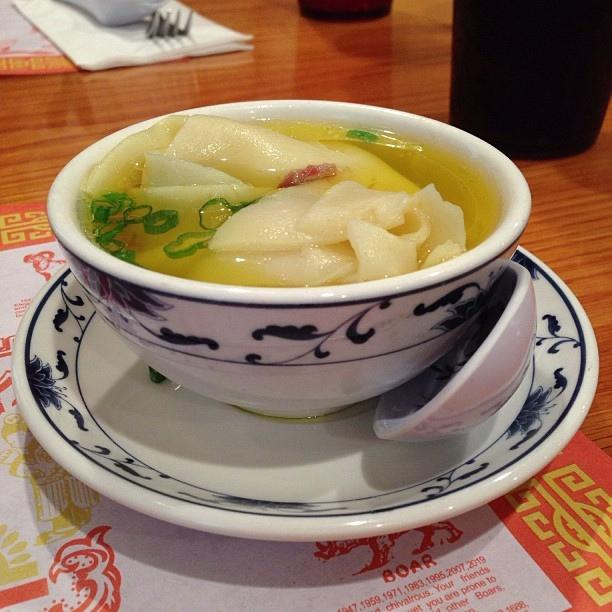green onion: (89, 192, 180, 243), (198, 195, 264, 230), (163, 231, 217, 258), (346, 129, 380, 143), (99, 238, 125, 254), (114, 249, 136, 265)
